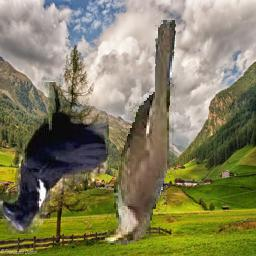Crow: (1, 82, 110, 234)
Cuckoo: (104, 21, 177, 246)
